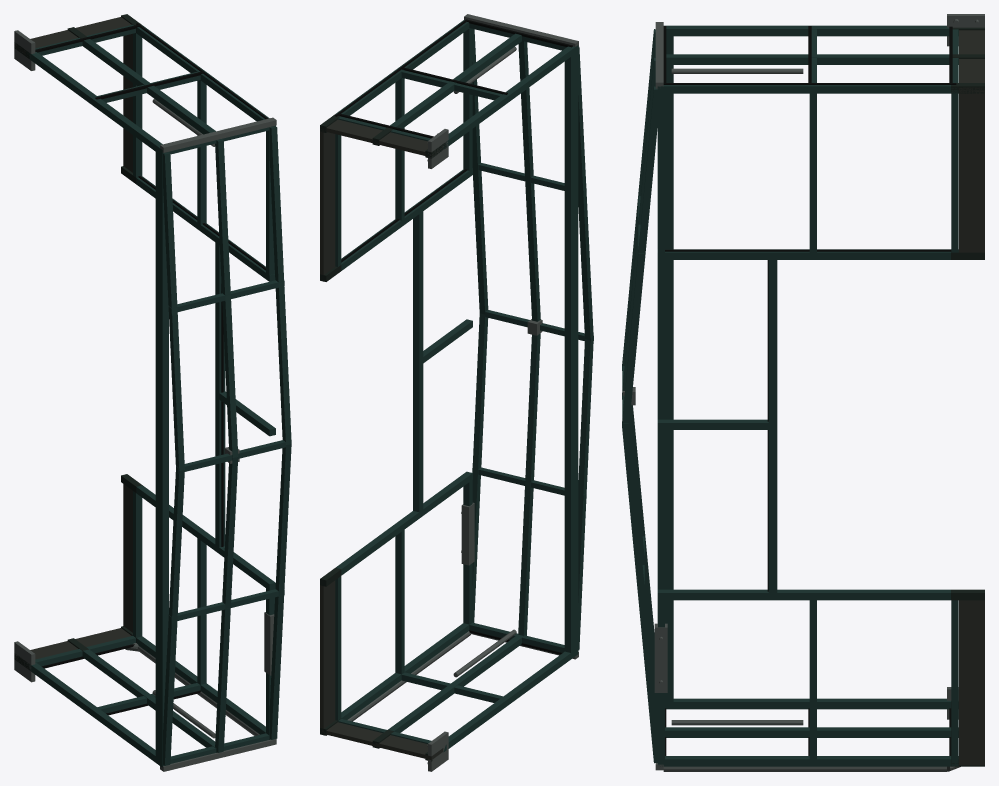
The model's file is VD_RootsteadEntryVestibule_Frame.obj.
3 renders of one model, left to right at view 1: azimuth 30°, elevation 25°; view 2: azimuth 150°, elevation 25°; view 3: azimuth 270°, elevation 25°, orthographic. The views are drawn at different scales.
Parts seen in each view (by area): view 1: VD_RootsteadEntryVestibule_Frame; view 2: VD_RootsteadEntryVestibule_Frame; view 3: VD_RootsteadEntryVestibule_Frame.
Boxes of the visible parts, left/top/right/bottom form: VD_RootsteadEntryVestibule_Frame: left=14, top=14, right=291, bottom=771; VD_RootsteadEntryVestibule_Frame: left=320, top=14, right=593, bottom=771; VD_RootsteadEntryVestibule_Frame: left=622, top=14, right=984, bottom=771.
Bounding box in the file's own units: 370 × 1944 × 909.
